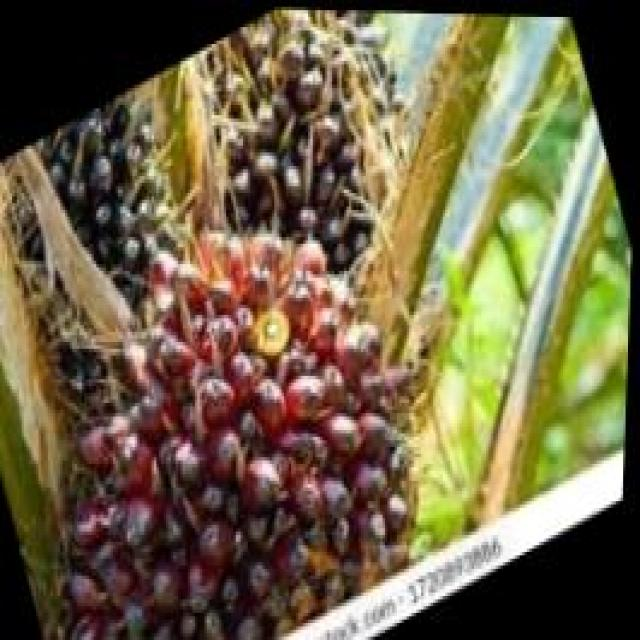Ripefruit: (0, 145, 447, 640)
